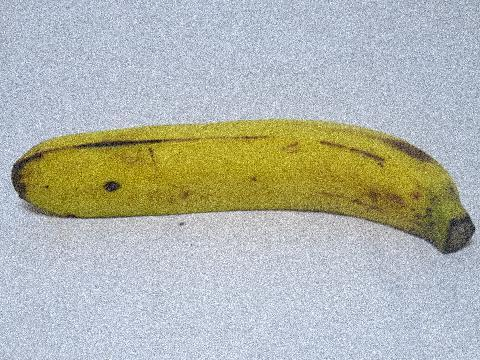ripe: (5, 101, 479, 262)
